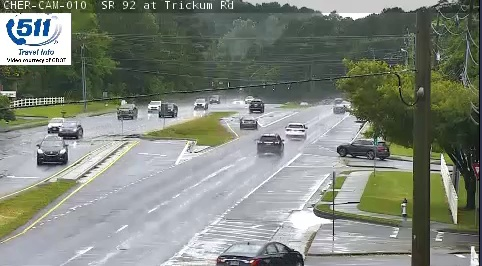car: (257, 133, 282, 152), (285, 123, 305, 139), (240, 116, 257, 129)
